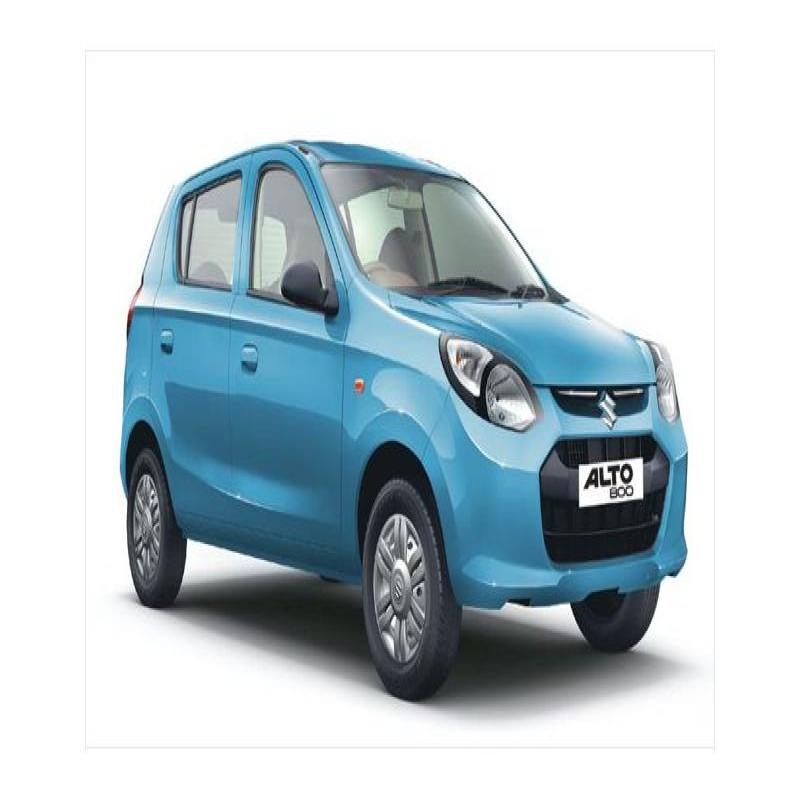car: (100, 103, 688, 700)
